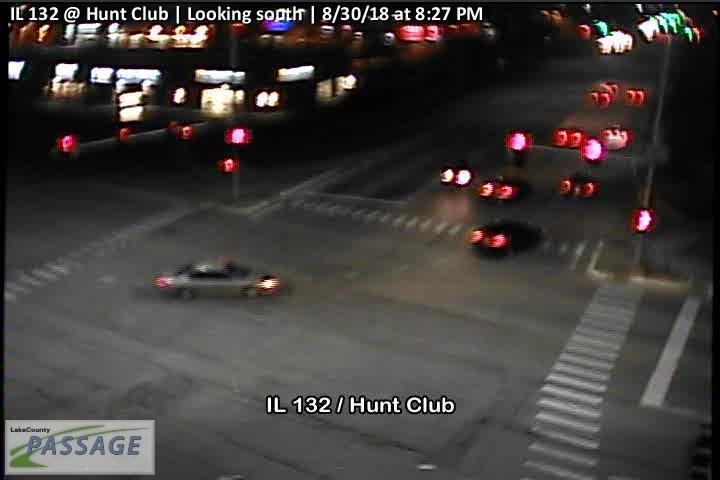Sedan: (153, 256, 281, 301), (468, 219, 542, 257), (476, 174, 532, 205)
